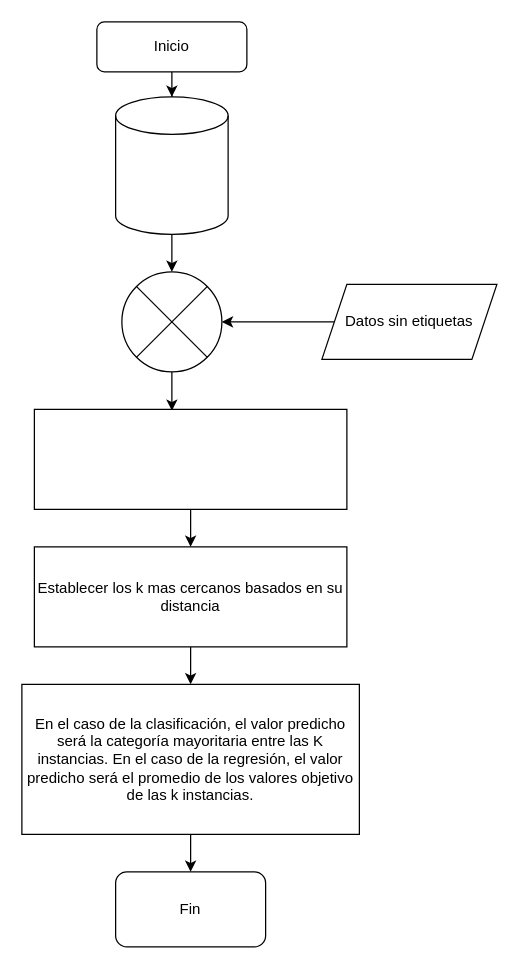
Some shapes in this 519 by 969 pixel diagram are drawn without their labels. Each missing label, with the centre of its shape:
Datos entrada: point 171,165
Distancia entre datos no etiquetados con respecto al conjunto inicial de datos: point 190,458
